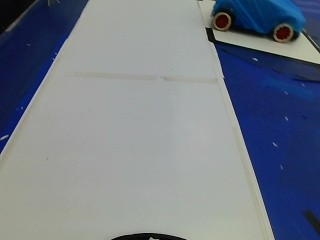car: (209, 0, 304, 44)
